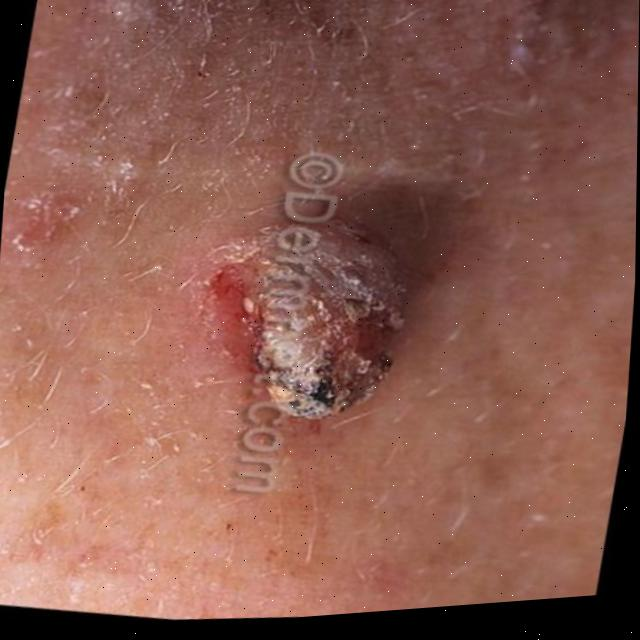Eczema: (178, 184, 420, 449)
